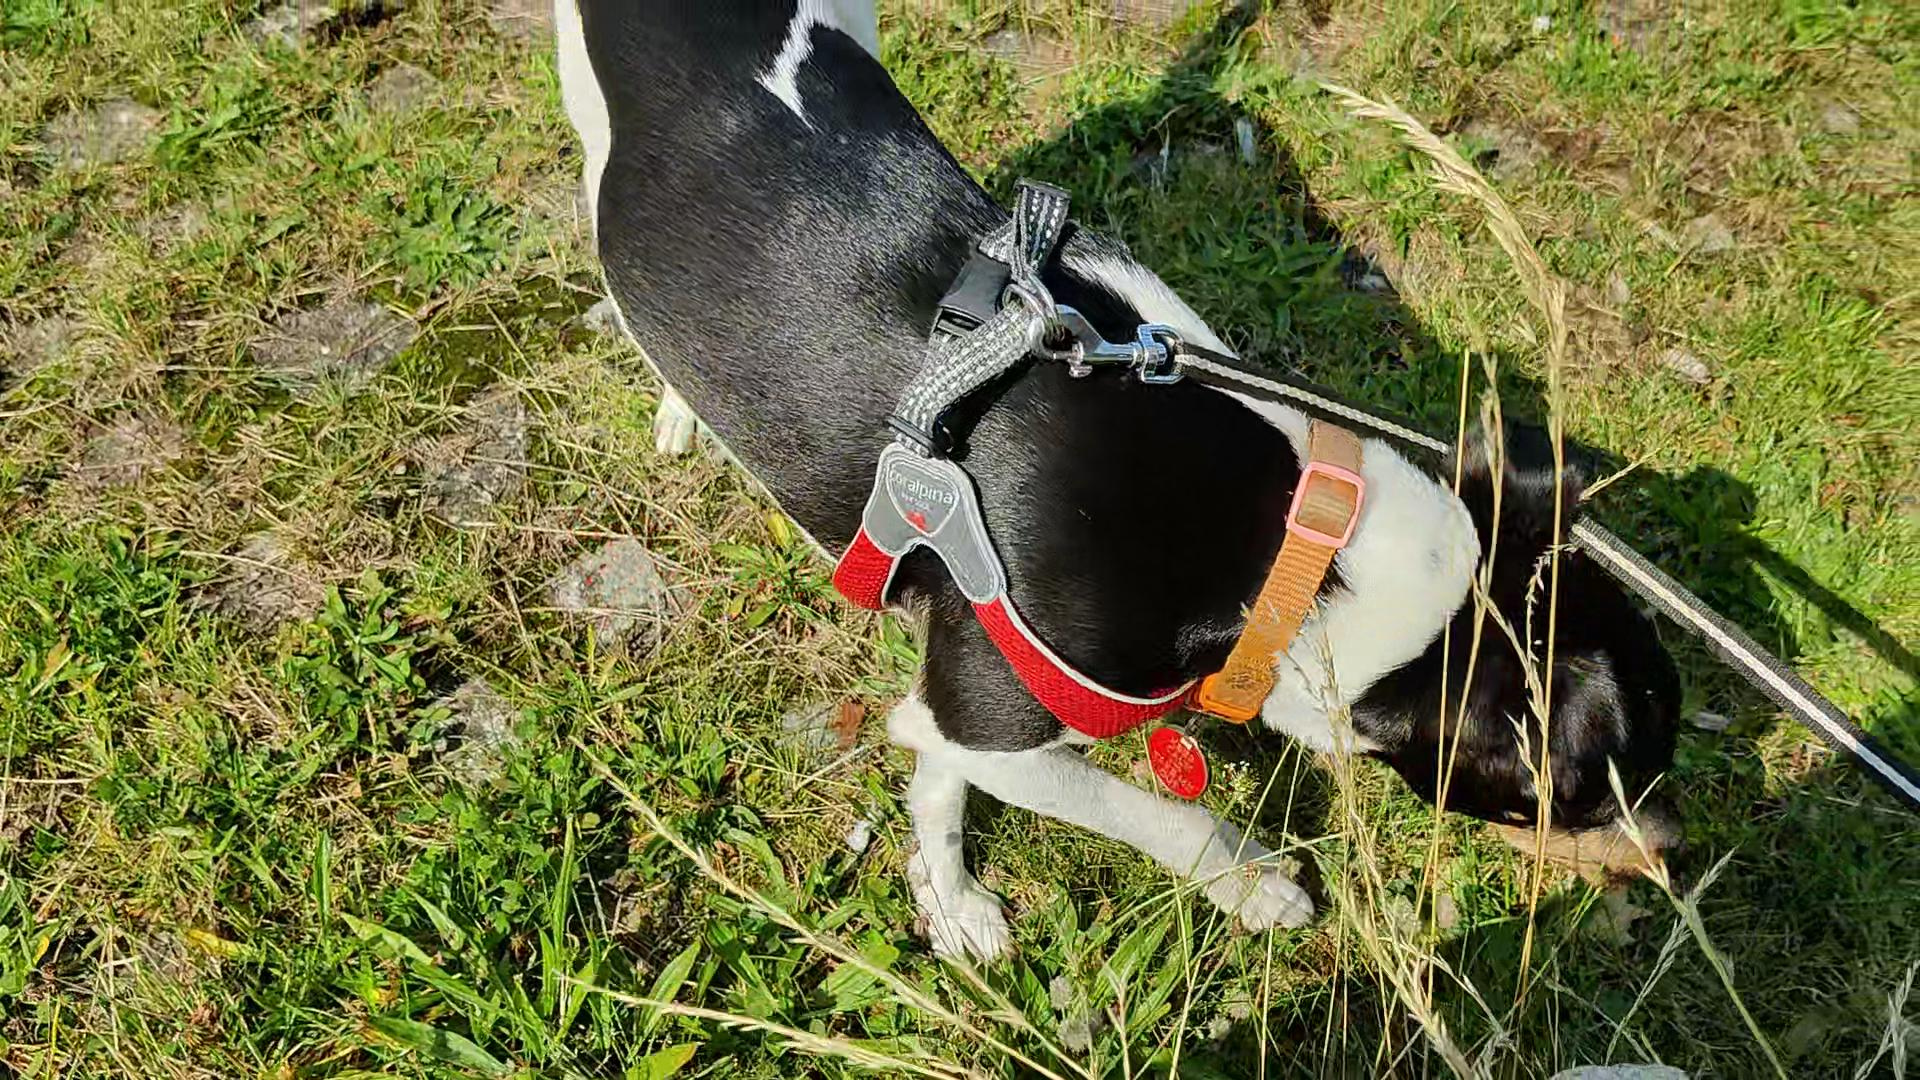Dog: (542, 0, 1727, 994)
